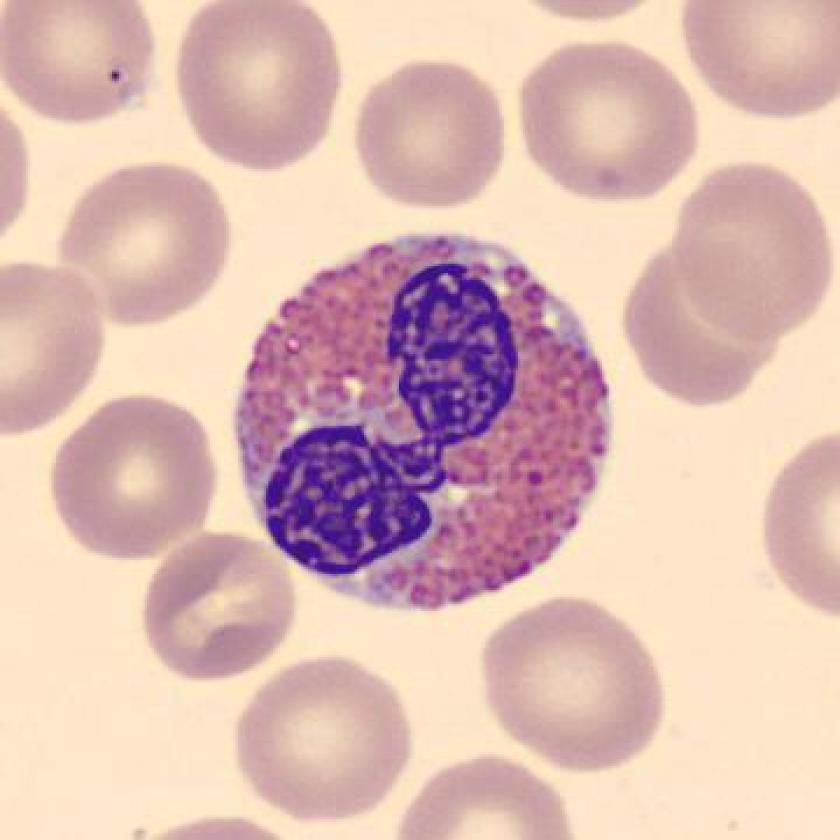eosinophil: (223, 216, 629, 621)
